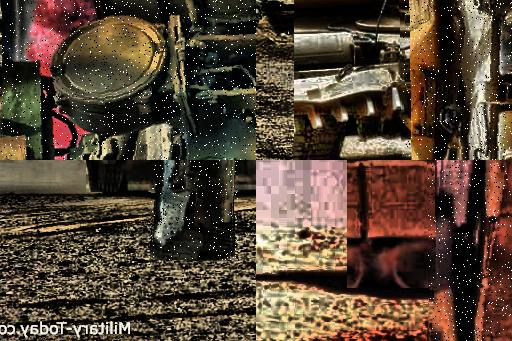tanks: (1, 1, 257, 161), (409, 1, 512, 161), (430, 161, 512, 341), (152, 161, 234, 261)
